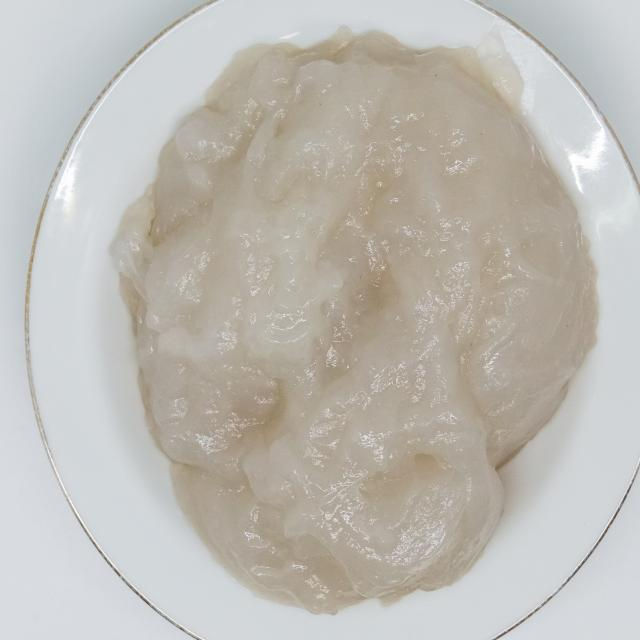Papeda: (112, 13, 604, 614)
